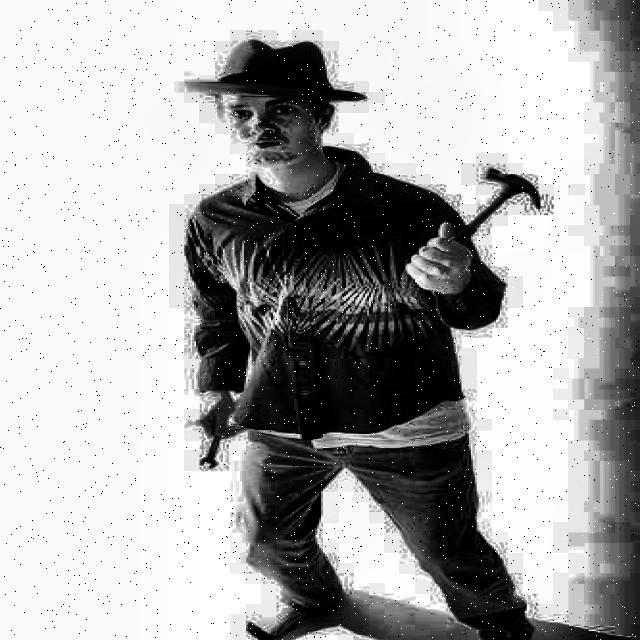hammer: (403, 168, 548, 279)
